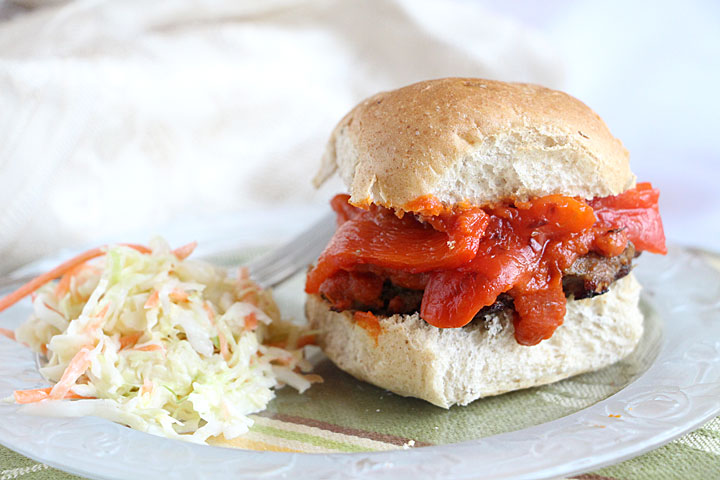sandwich: (209, 62, 709, 417)
